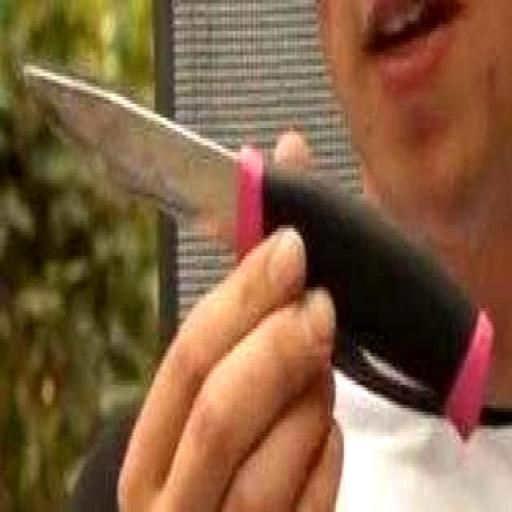knife: (17, 52, 512, 459)
